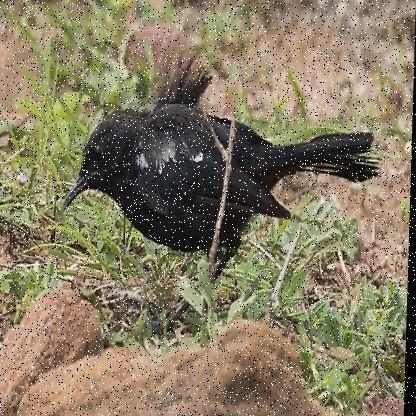Burung: (61, 44, 386, 336)
